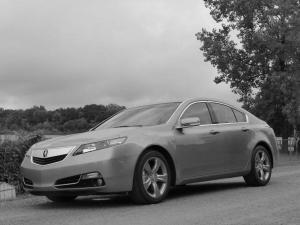car: (18, 97, 282, 203)
